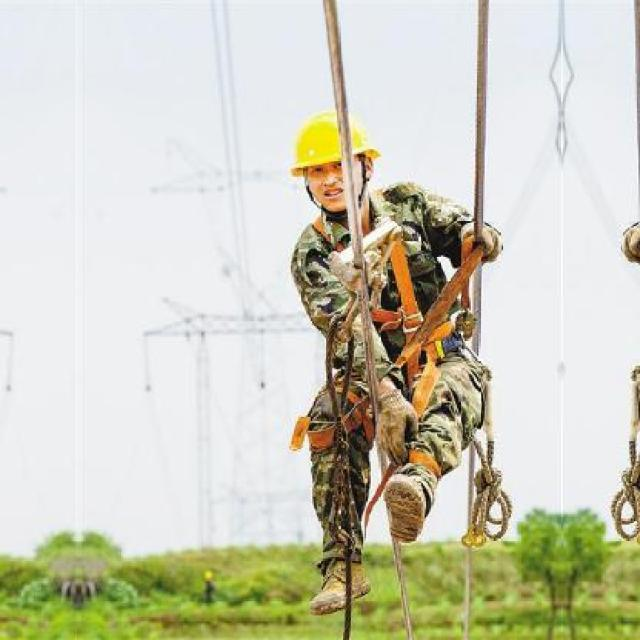helmet: (288, 103, 349, 220)
